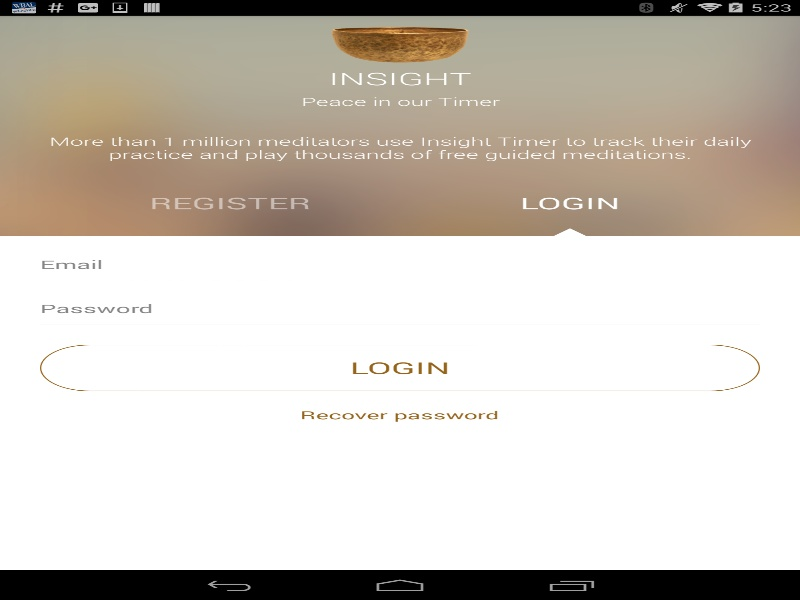Input: (40, 248, 760, 280), (40, 292, 760, 324)
